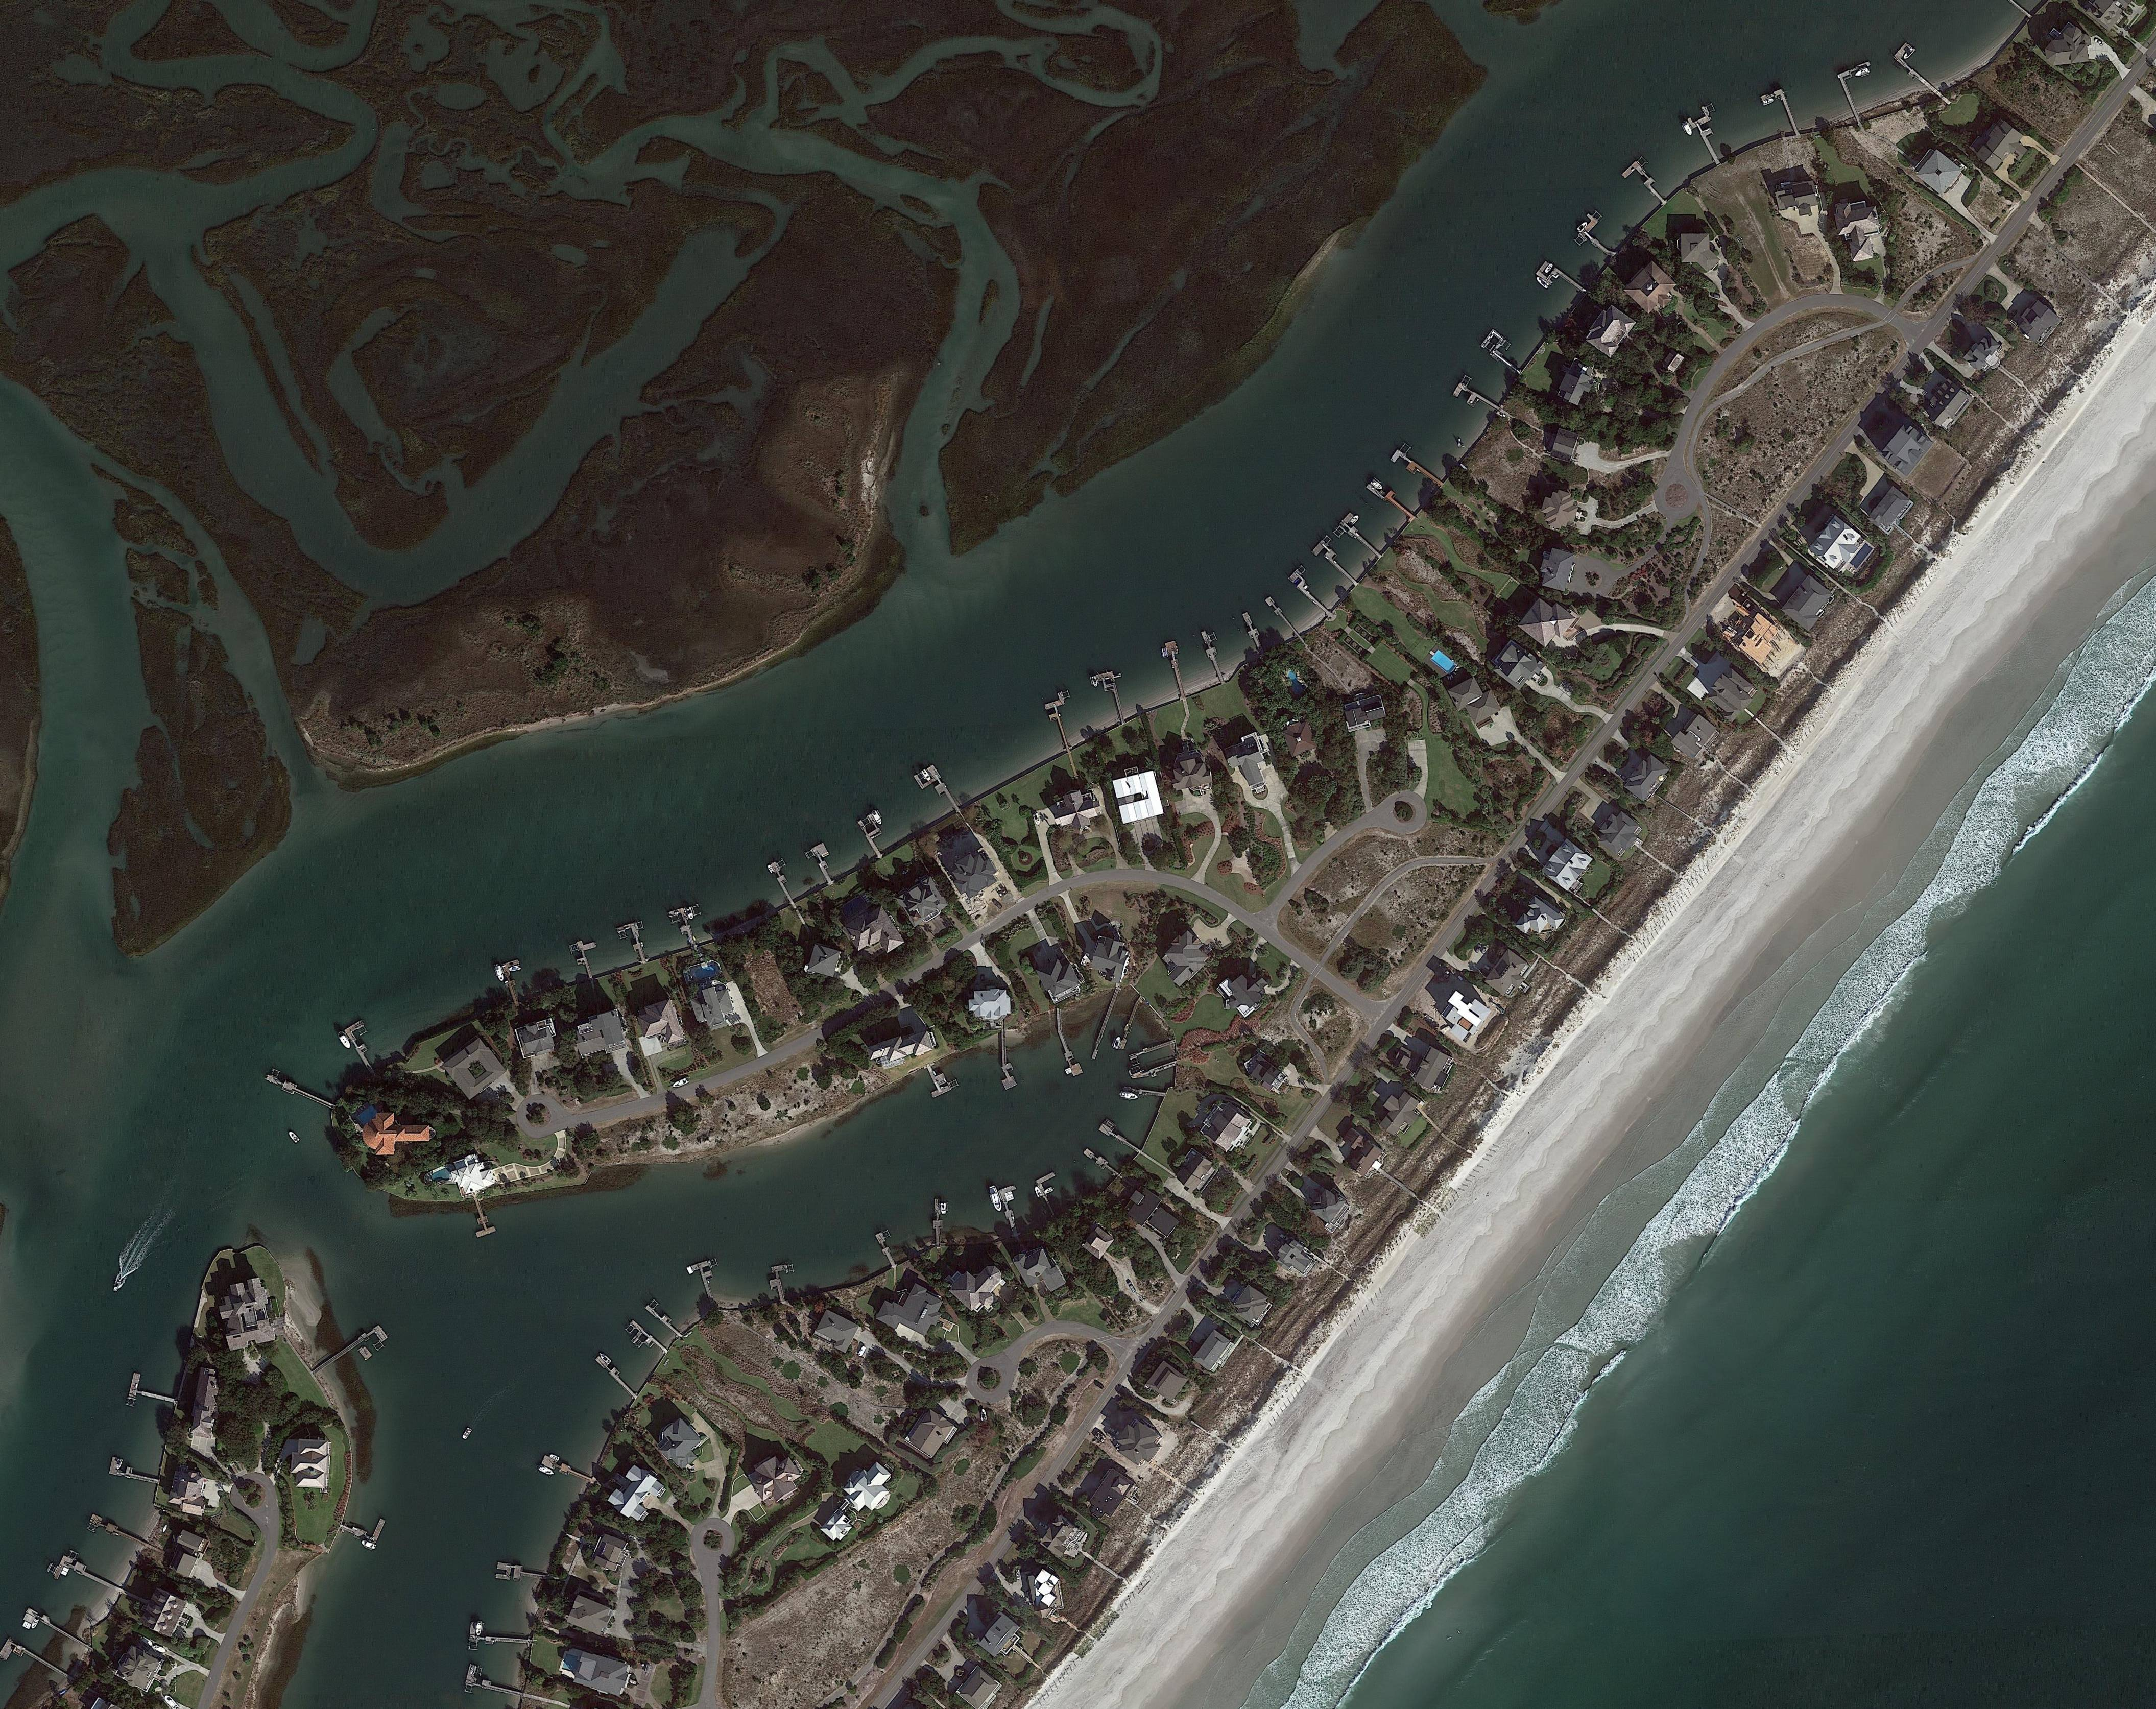harbor: (311, 1322, 388, 1385), (2, 1637, 70, 1690), (1893, 42, 1955, 100), (54, 1555, 124, 1604), (1837, 61, 1892, 124), (23, 1608, 89, 1657), (264, 1072, 338, 1113), (913, 764, 961, 822), (1571, 213, 1624, 264), (1620, 161, 1671, 213), (1389, 448, 1444, 495), (1312, 541, 1363, 589), (1367, 478, 1419, 525), (1535, 259, 1587, 306), (1687, 110, 1731, 166), (1339, 513, 1389, 560), (1480, 329, 1531, 376), (345, 1020, 388, 1074), (1041, 691, 1080, 752), (87, 1513, 149, 1552), (126, 1373, 182, 1415), (1288, 570, 1337, 616), (465, 1664, 527, 1699), (1760, 87, 1799, 142), (595, 1354, 640, 1399), (621, 1321, 668, 1363), (339, 1508, 387, 1548), (1452, 383, 1501, 422), (1092, 990, 1118, 1060), (856, 813, 894, 861), (469, 1622, 532, 1650), (1034, 1172, 1071, 1217), (1095, 672, 1125, 726), (997, 1184, 1029, 1235), (542, 1455, 595, 1485), (1265, 596, 1302, 638), (1199, 628, 1227, 682), (691, 1259, 723, 1307), (646, 1301, 686, 1338), (570, 938, 604, 981), (616, 922, 647, 967), (1097, 1123, 1143, 1154), (500, 959, 530, 1006), (1081, 1146, 1123, 1179), (108, 1457, 161, 1483), (495, 1562, 548, 1587), (1057, 1029, 1083, 1078), (770, 861, 798, 906), (1165, 642, 1188, 698), (465, 1198, 497, 1238), (920, 1060, 952, 1100), (812, 843, 842, 885), (668, 906, 696, 950), (1241, 612, 1269, 656), (1130, 1060, 1179, 1085), (1118, 1001, 1141, 1050), (765, 1265, 793, 1303), (1129, 1041, 1172, 1062), (875, 1231, 899, 1268), (996, 1062, 1022, 1092), (933, 1198, 943, 1247), (1123, 1086, 1165, 1099), (1001, 1027, 1006, 1064)
roundabout: (700, 1527, 726, 1552)
